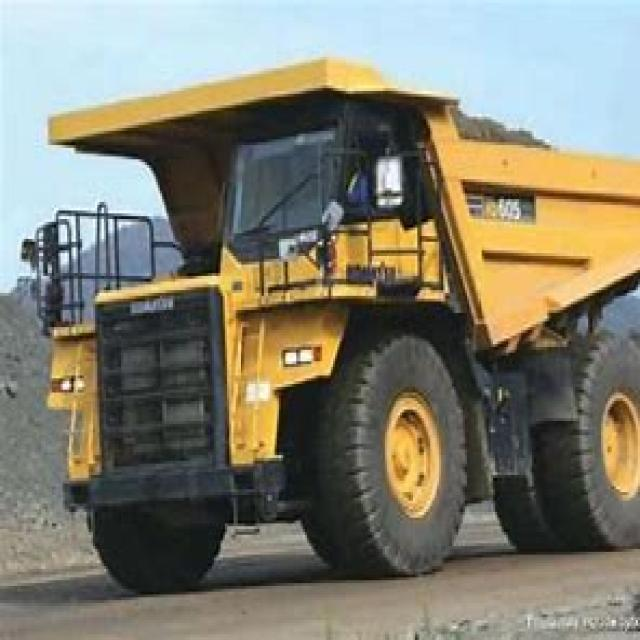dump_truck: (15, 54, 638, 589)
